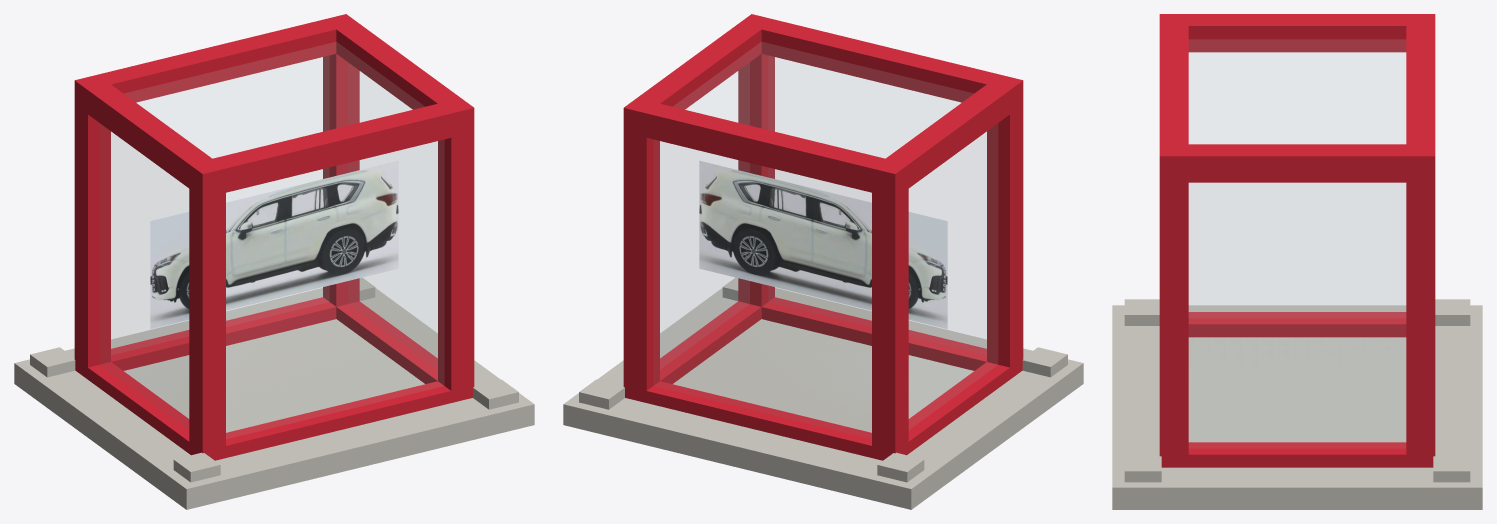
File: lexus-lx600.glb
The picture shows the model from 3 angles, left to right: view 1: azimuth 30°, elevation 25°; view 2: azimuth 150°, elevation 25°; view 3: azimuth 270°, elevation 25°; orthographic projection. The views are drawn at different scales.
Size of the model in its own units: 0.105 by 0.0895 by 0.09.
4 materials, 1 textured.
